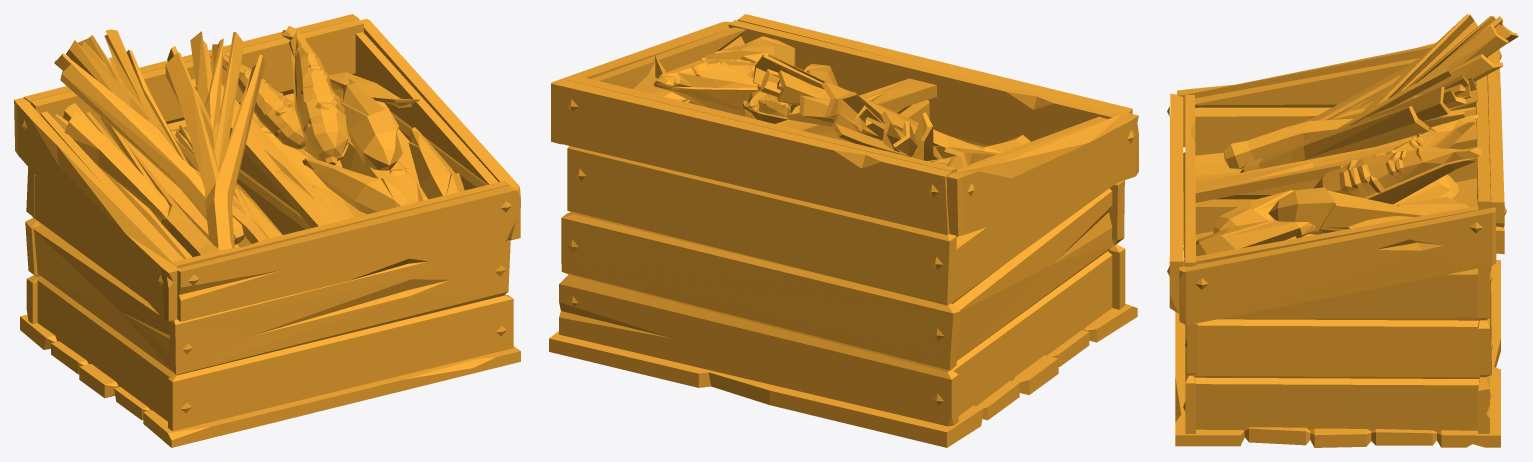
File: SM_Crate_Small_Slanted_Corn_Leek_Fantasy.fbx
The picture shows the model from 3 angles, left to right: view 1: azimuth 30°, elevation 25°; view 2: azimuth 150°, elevation 25°; view 3: azimuth 270°, elevation 25°; orthographic projection. The views are drawn at different scales.
Visible parts, largest first — view 1: crate-small-slanted-corn-leek-fantasy; view 2: crate-small-slanted-corn-leek-fantasy; view 3: crate-small-slanted-corn-leek-fantasy.
Boxes of the visible parts, x1,y1,x2,y2 form: crate-small-slanted-corn-leek-fantasy: (14, 14, 520, 447); crate-small-slanted-corn-leek-fantasy: (549, 14, 1138, 447); crate-small-slanted-corn-leek-fantasy: (1167, 14, 1518, 447).
Bounding box in the file's own units: 1.06 × 0.8056 × 0.8715.
